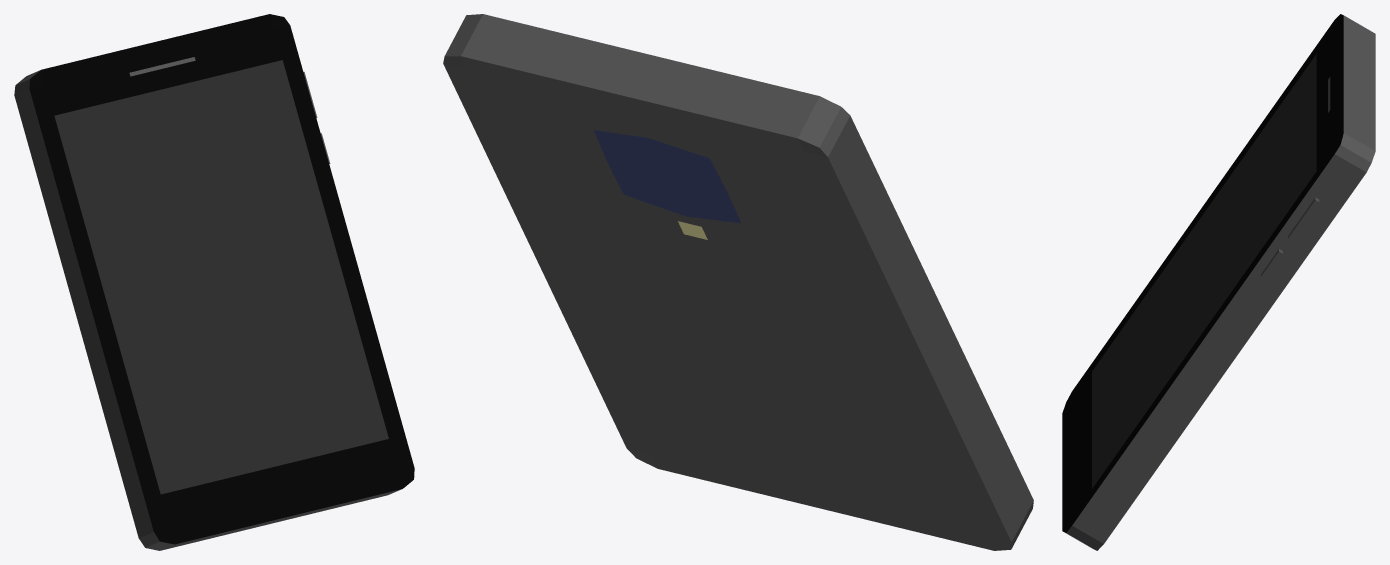
The model's file is Phone.fbx.
3 views of the same model, side by side, from view 1: azimuth 30°, elevation 25°; view 2: azimuth 150°, elevation 25°; view 3: azimuth 270°, elevation 25° (orthographic). The views are drawn at different scales.
Parts seen in each view (by area): view 1: Cube.001, Cube.005, Cube; view 2: Cube, Cube.003; view 3: Cube.001, Cube, Cube.005.
Part boxes in pixels (x1,y1,x2,y2): Cube.001: [54, 60, 388, 494]; Cube.005: [29, 14, 414, 544]; Cube: [14, 70, 401, 550]; Cube: [443, 14, 1033, 550]; Cube.003: [593, 130, 740, 223]; Cube.001: [1092, 54, 1316, 488]; Cube: [1064, 15, 1375, 550]; Cube.005: [1062, 14, 1343, 532].
Size of the model in its own units: 146 by 207 by 141.
